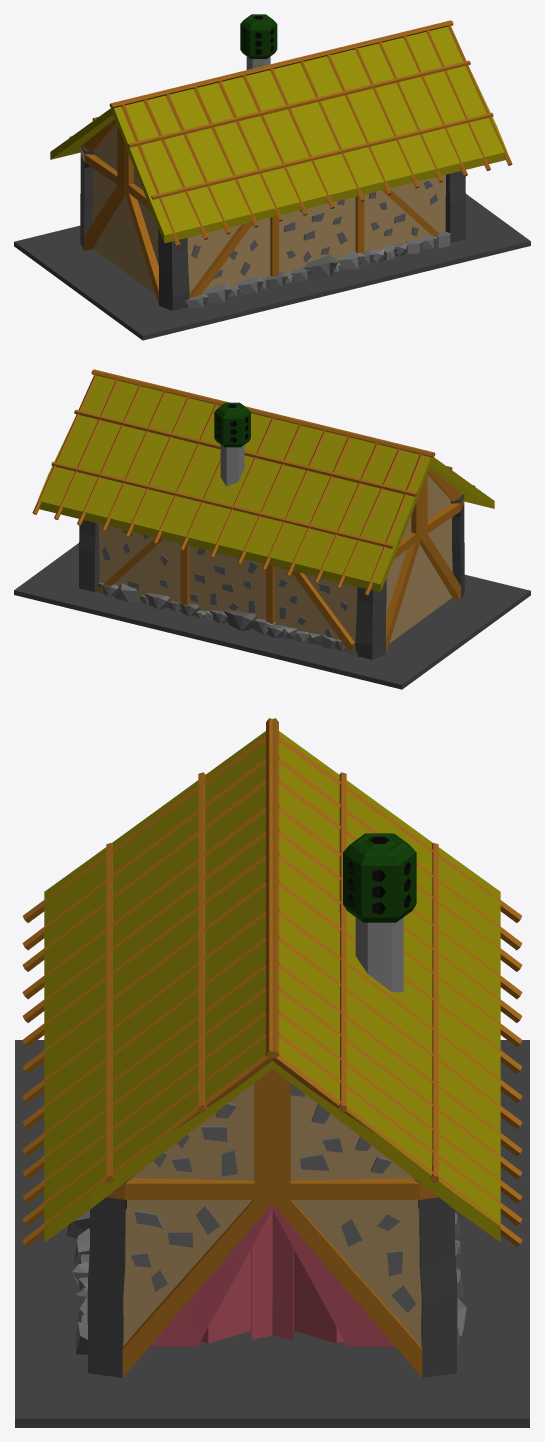
The model's file is forge 2 level.fbx.
3 views of the same model, one above another, from view 1: azimuth 30°, elevation 25°; view 2: azimuth 150°, elevation 25°; view 3: azimuth 270°, elevation 25° (orthographic). The views are drawn at different scales.
Parts seen in each view (by area): view 1: Forge_level_2, Cube, Cube.005, Cube.001; view 2: Forge_level_2, Cube, Cube.022, Cube.002; view 3: Forge_level_2, Cube, Cube.039, Cube.005, Cube.022.
Part boxes in pixels (box(x1,y1,x2,y2)): Forge_level_2: box(50, 14, 512, 310); Cube: box(14, 194, 530, 340); Cube.005: box(185, 231, 451, 308); Cube.001: box(191, 180, 437, 279); Forge_level_2: box(32, 369, 494, 659); Cube: box(14, 543, 530, 689); Cube.022: box(97, 582, 357, 656); Cube.002: box(102, 529, 347, 637); Forge_level_2: box(22, 718, 522, 1377); Cube: box(15, 1040, 529, 1427); Cube.039: box(130, 1083, 416, 1312); Cube.005: box(67, 1210, 89, 1354); Cube.022: box(455, 1210, 466, 1346).
Bounding box in the file's own units: 2392 × 1210 × 1375.
